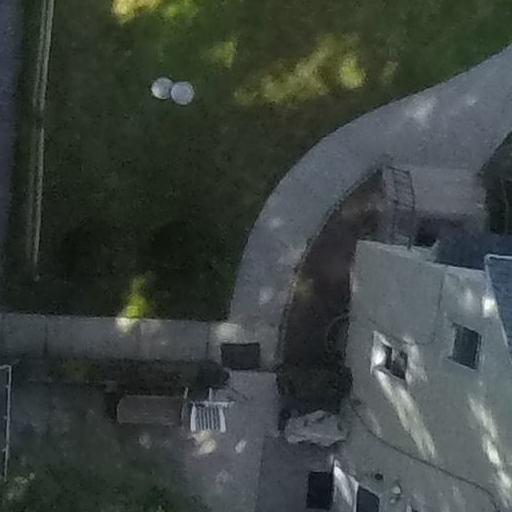container: (168, 73, 195, 110), (147, 75, 183, 102)
